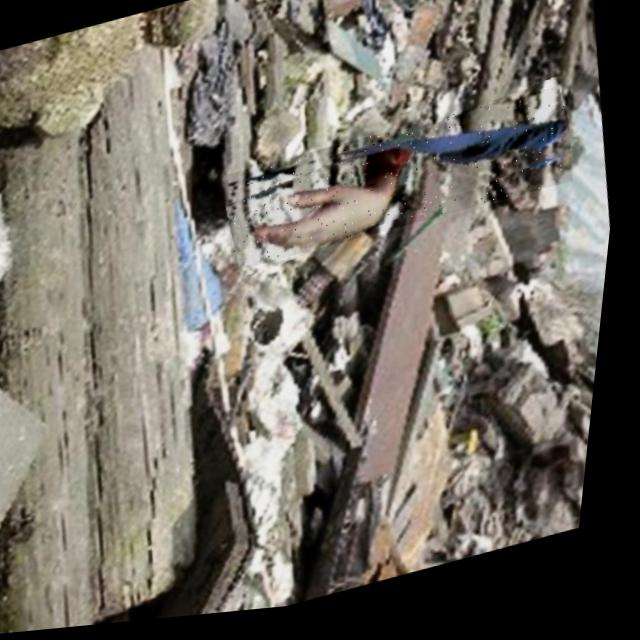Person in Rubble: (221, 94, 585, 278)
